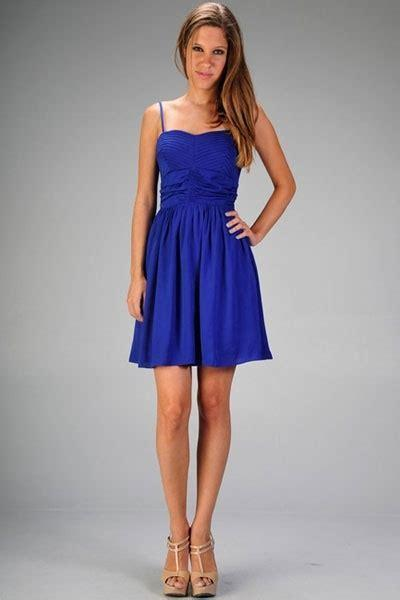dress: (127, 101, 274, 368)
